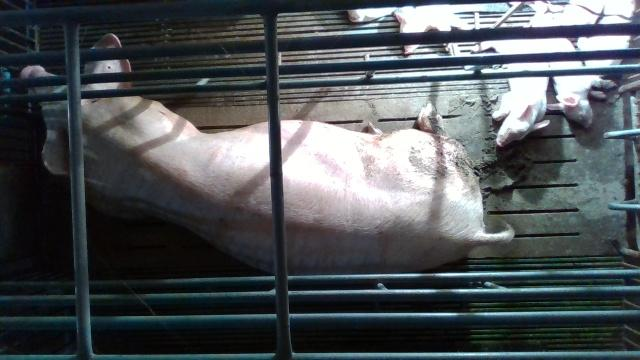piglet: (482, 37, 551, 145), (549, 36, 619, 127), (392, 0, 474, 55), (579, 0, 640, 67)
sow-sit: (20, 32, 515, 277)
